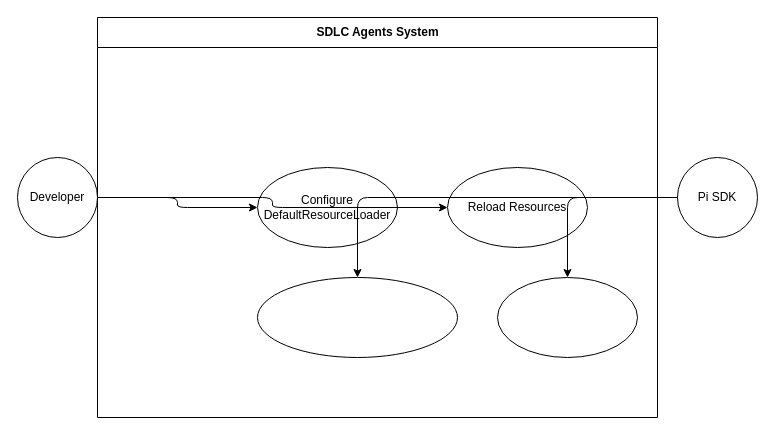
This 775x435 diagram has some shape labels left out. Here are the shapes that lost their labels. From the top down, the box of each, then its label:
(256, 276, 458, 358): Discover Skills / Prompts / Extensions
(496, 276, 638, 358): Create Agent Session
